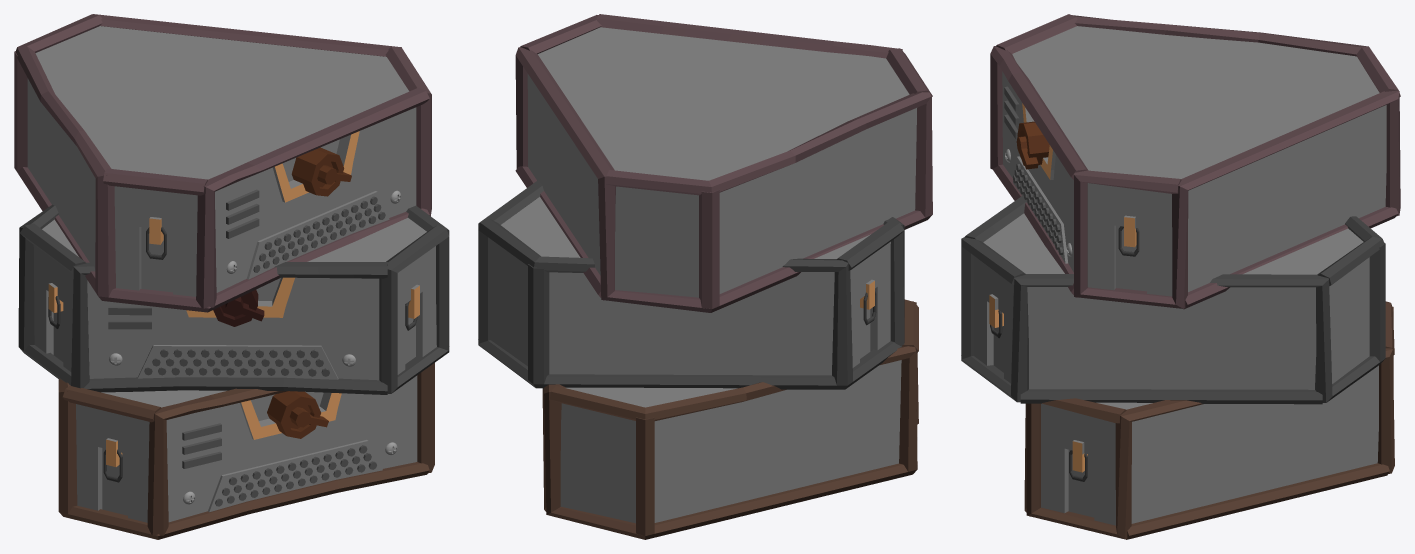
The picture shows the model from 3 angles, left to right: view 1: azimuth 30°, elevation 25°; view 2: azimuth 150°, elevation 25°; view 3: azimuth 270°, elevation 25°; orthographic projection.
Parts seen in each view (by area): view 1: 平面.006, 平面.004, 平面.005; view 2: 平面.006, 平面.004, 平面.005; view 3: 平面.006, 平面.004, 平面.005.
Part boxes in pixels (left/top/right/bottom): 平面.006: left=14, top=14, right=431, bottom=312; 平面.004: left=18, top=204, right=449, bottom=394; 平面.005: left=58, top=363, right=434, bottom=539; 平面.006: left=515, top=14, right=932, bottom=312; 平面.004: left=478, top=180, right=904, bottom=389; 平面.005: left=542, top=299, right=918, bottom=539; 平面.006: left=990, top=14, right=1400, bottom=309; 平面.004: left=961, top=196, right=1385, bottom=404; 平面.005: left=1024, top=301, right=1394, bottom=539.
Size of the model in its own units: 384 by 356 by 397.
